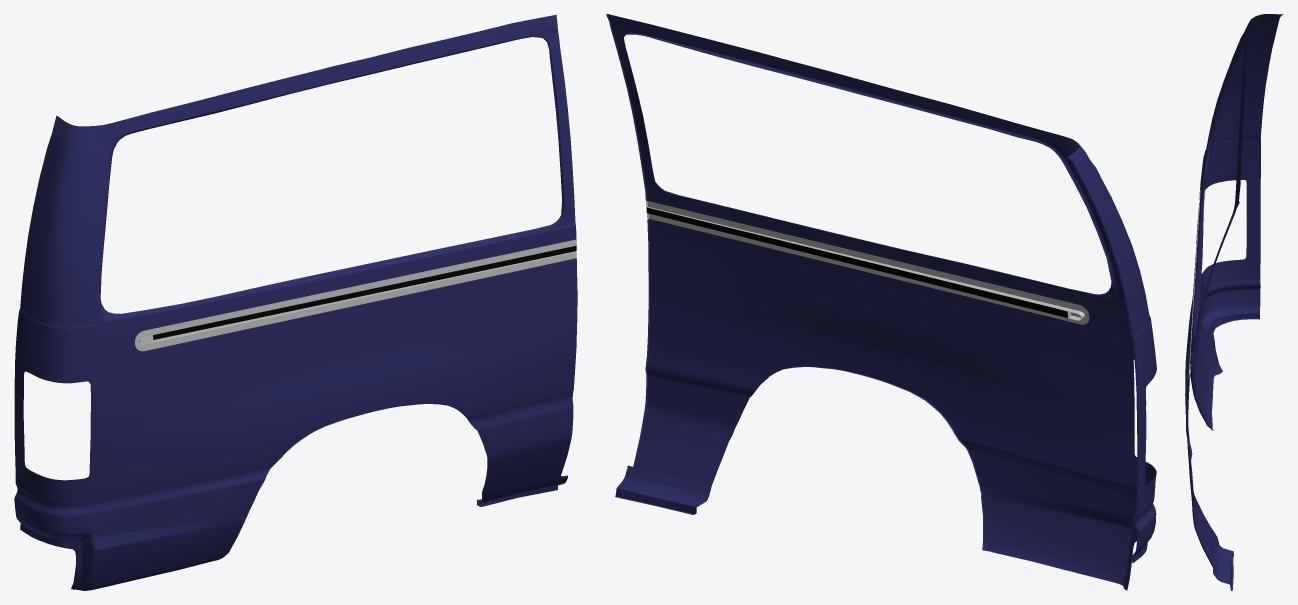
3 renders of one model, left to right at view 1: azimuth 30°, elevation 25°; view 2: azimuth 150°, elevation 25°; view 3: azimuth 270°, elevation 25°, orthographic. The views are drawn at different scales.
Parts seen in each view (by area): view 1: P615_5A_40AA_R_P615_5A_40AA_R_1_DaS, P615_5A_40AA_R_P615_5A_40AA_R_2_DaS, P615_5A_40AA_R_P615_5A_40AA_R_1_DaS_E, P615_5A_40AA_R_3_D_P615_5A_40AA_R; view 2: P615_5A_40AA_R_P615_5A_40AA_R_1_DaS, P615_5A_40AA_R_P615_5A_40AA_R_1_DaS_E, P615_5A_40AA_R_P615_5A_40AA_R_2_DaS, P615_5A_40AA_R_3_D_P615_5A_40AA_R; view 3: P615_5A_40AA_R_P615_5A_40AA_R_1_DaS, P615_5A_40AA_R_P615_5A_40AA_R_1_DaS_E, P615_5A_40AA_R_P615_5A_40AA_R_2_DaS.
Part boxes in pixels (x1=…): P615_5A_40AA_R_P615_5A_40AA_R_1_DaS: x1=14, y1=15, x2=577, y2=590; P615_5A_40AA_R_P615_5A_40AA_R_2_DaS: x1=135, y1=239, x2=576, y2=351; P615_5A_40AA_R_P615_5A_40AA_R_1_DaS_E: x1=16, y1=15, x2=577, y2=590; P615_5A_40AA_R_3_D_P615_5A_40AA_R: x1=153, y1=245, x2=576, y2=339; P615_5A_40AA_R_P615_5A_40AA_R_1_DaS: x1=608, y1=14, x2=1156, y2=589; P615_5A_40AA_R_P615_5A_40AA_R_1_DaS_E: x1=606, y1=14, x2=1151, y2=590; P615_5A_40AA_R_P615_5A_40AA_R_2_DaS: x1=646, y1=201, x2=1089, y2=324; P615_5A_40AA_R_3_D_P615_5A_40AA_R: x1=646, y1=207, x2=1067, y2=317; P615_5A_40AA_R_P615_5A_40AA_R_1_DaS: x1=1185, y1=14, x2=1281, y2=584; P615_5A_40AA_R_P615_5A_40AA_R_1_DaS_E: x1=1187, y1=14, x2=1283, y2=590; P615_5A_40AA_R_P615_5A_40AA_R_2_DaS: x1=1188, y1=185, x2=1205, y2=379.
Bounding box in the file's own units: 196 × 167 × 38.07.
